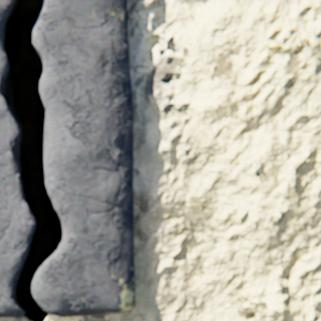broken_brick: (32, 0, 135, 316), (0, 94, 34, 317), (0, 0, 14, 85)
crack: (0, 0, 64, 320)
